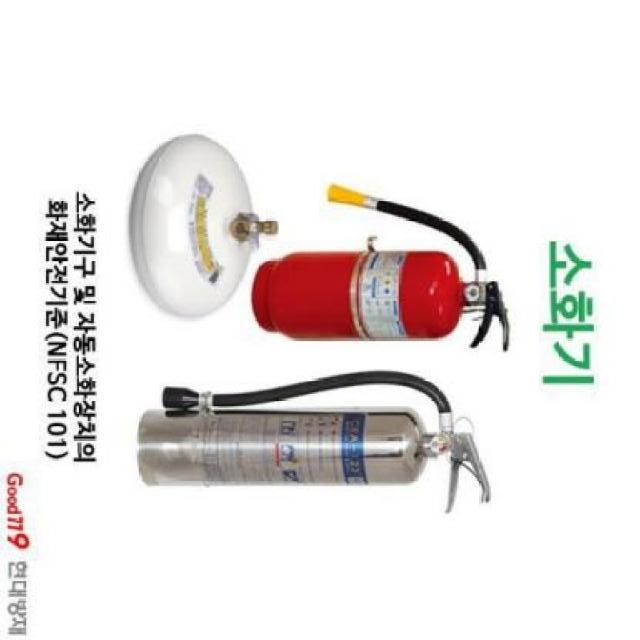fire extinguisher: (139, 369, 493, 514), (250, 181, 510, 352)
